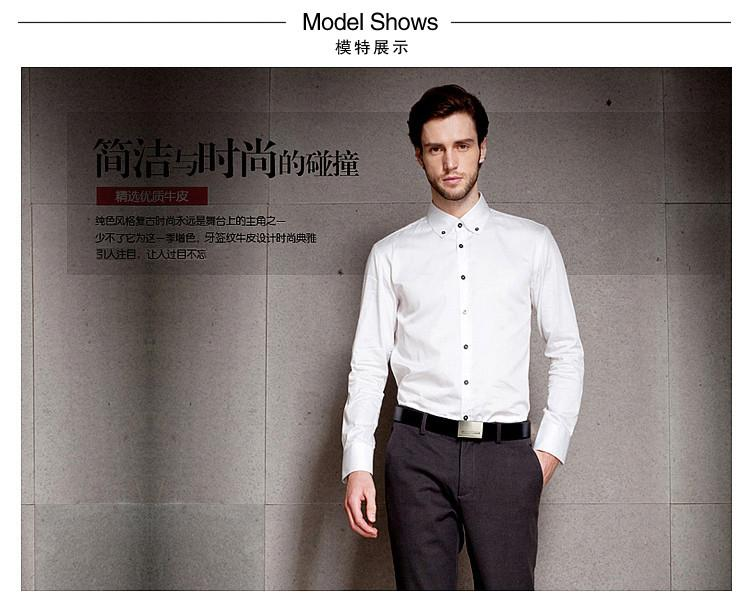F_belt: (388, 403, 531, 447)
F_dress pants: (382, 441, 542, 587)
F_shirt: (345, 188, 600, 470)
